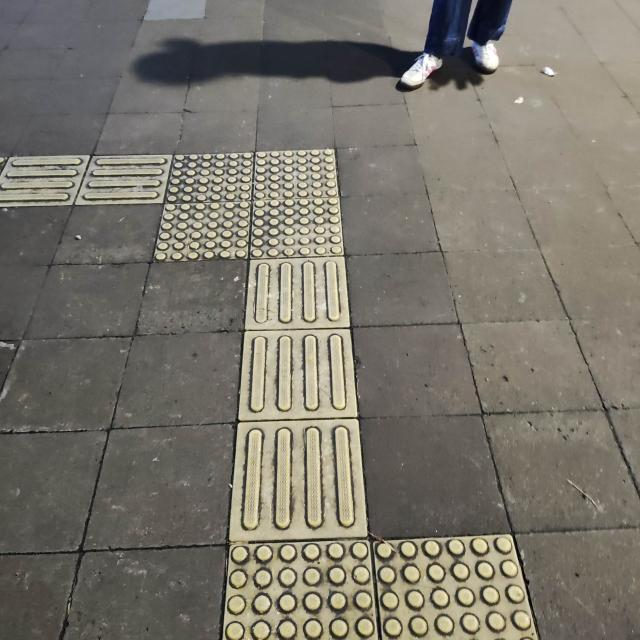kiri: (31, 120, 394, 327)
